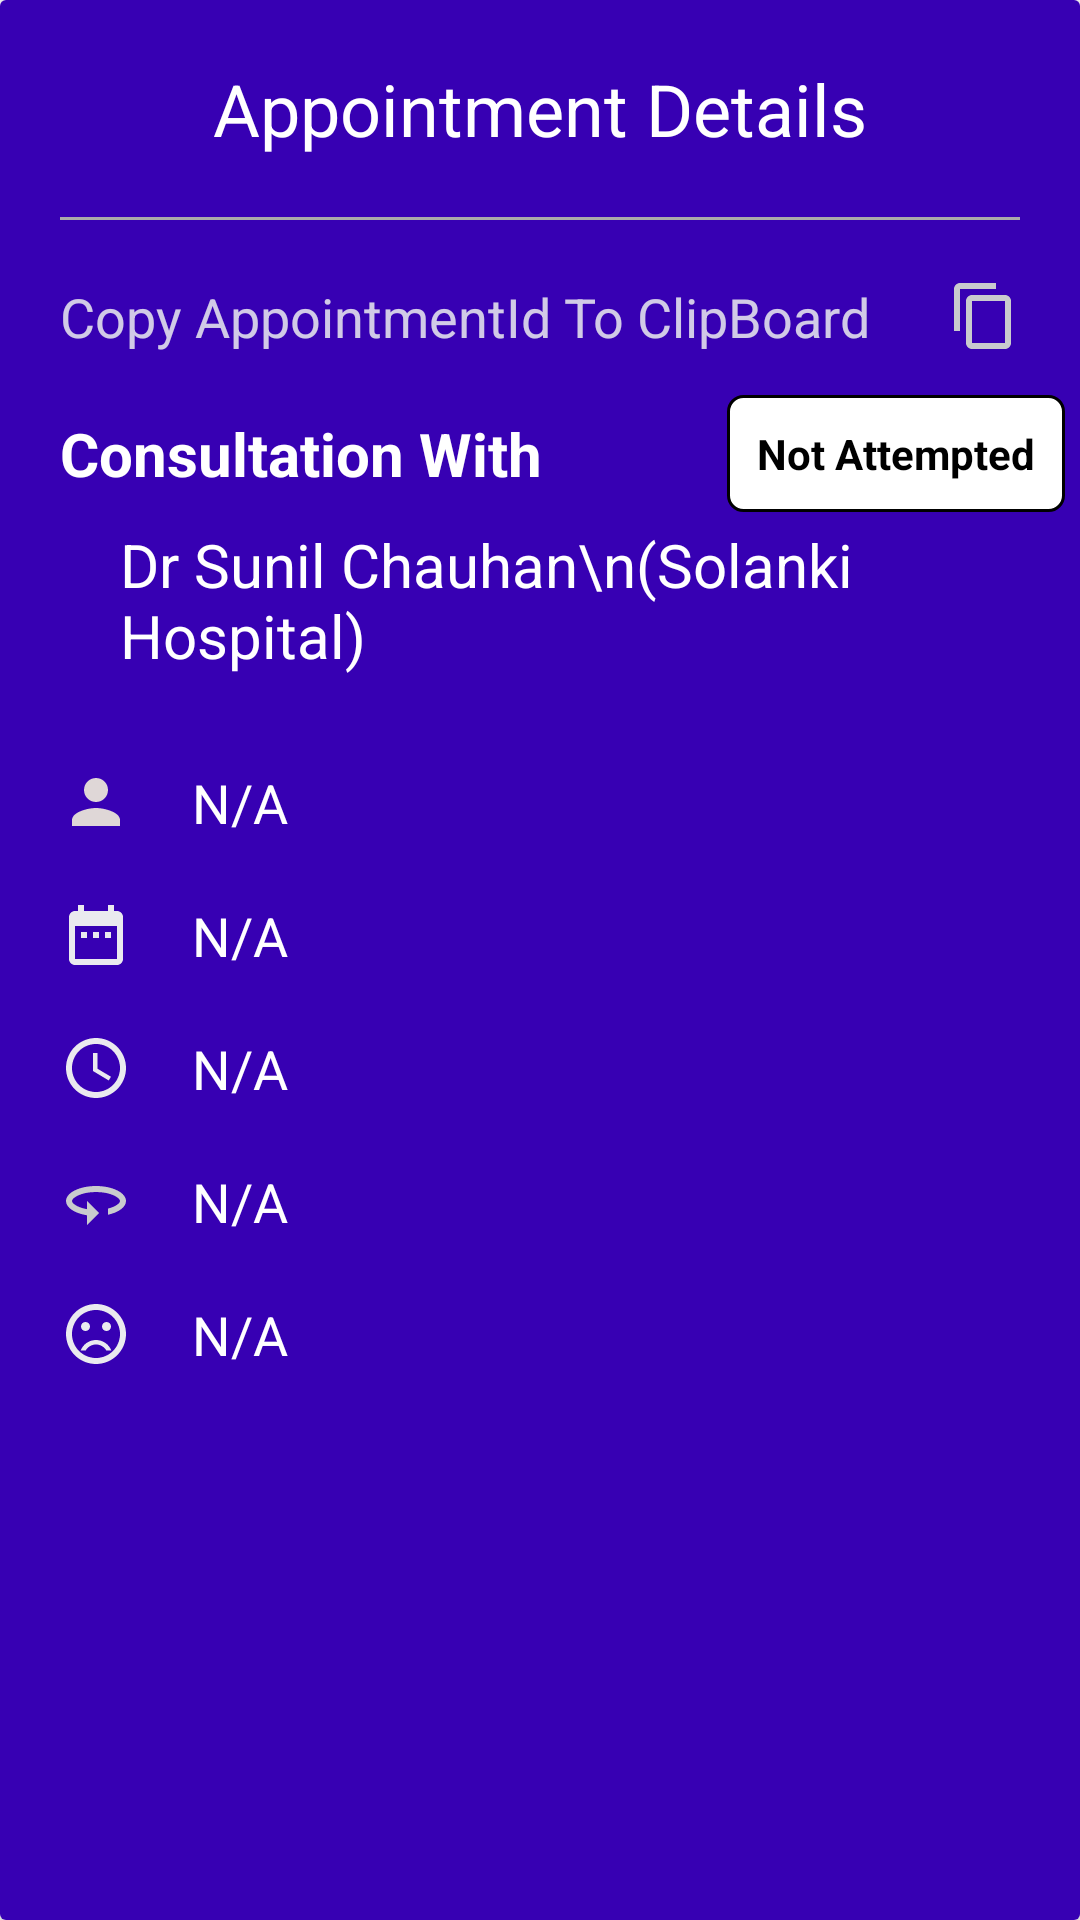

Icon bounding boxes for this 1080w x 1920h phone screenshot, format [x1=x1, y1=y1, x2=x2, y2=y2]:
calender: [x1=69, y1=905, x2=123, y2=965]
clock: [x1=66, y1=1038, x2=126, y2=1098]
disease: [x1=66, y1=1304, x2=126, y2=1364]
person: [x1=72, y1=778, x2=120, y2=826]
